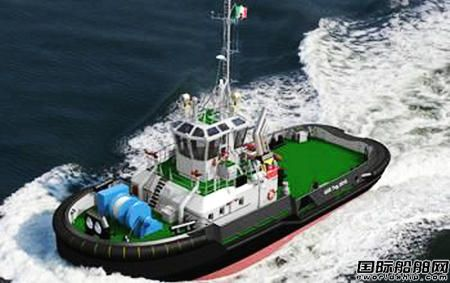otherboat: (52, 46, 394, 274)
